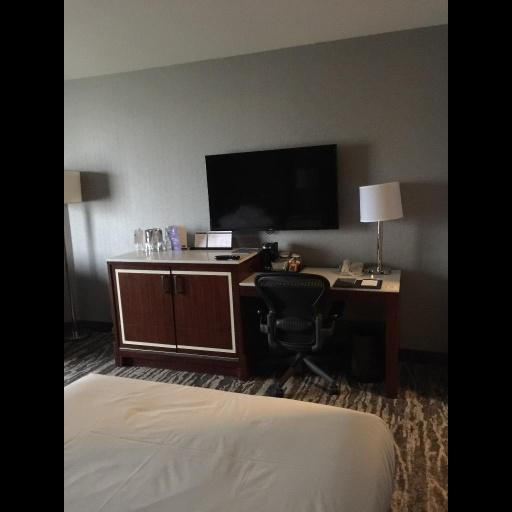chair: (254, 267, 339, 396)
clean_bed: (65, 370, 407, 511)
lamp: (359, 180, 406, 278)
organized table: (105, 222, 273, 380)
